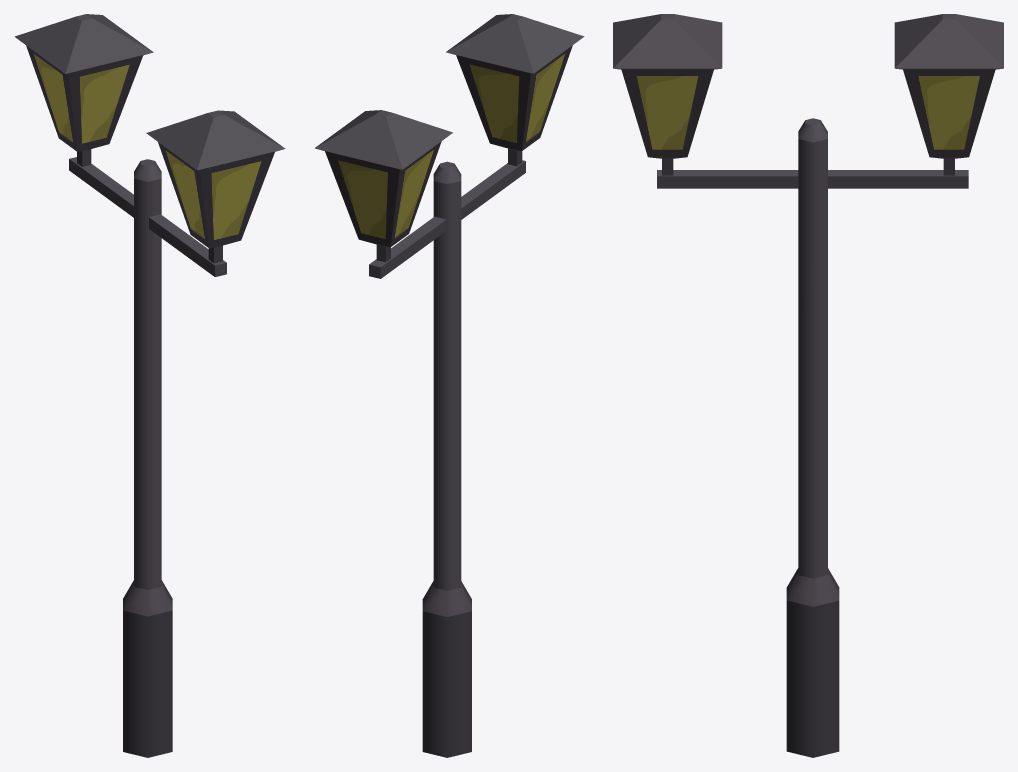
The model's file is Lamp_01.fbx.
3 views of the same model, side by side, from view 1: azimuth 30°, elevation 25°; view 2: azimuth 150°, elevation 25°; view 3: azimuth 270°, elevation 25° (orthographic). The views are drawn at different scales.
Visible parts, largest first — view 1: Park_Lamp_01; view 2: Park_Lamp_01; view 3: Park_Lamp_01.
Boxes of the visible parts, x1,y1,x2,y2 form: Park_Lamp_01: (14, 14, 285, 757); Park_Lamp_01: (315, 14, 584, 757); Park_Lamp_01: (613, 14, 1003, 757).
Bounding box in the file's own units: 59.64 × 439 × 213.
Materials: 1 (1 with a texture image).
